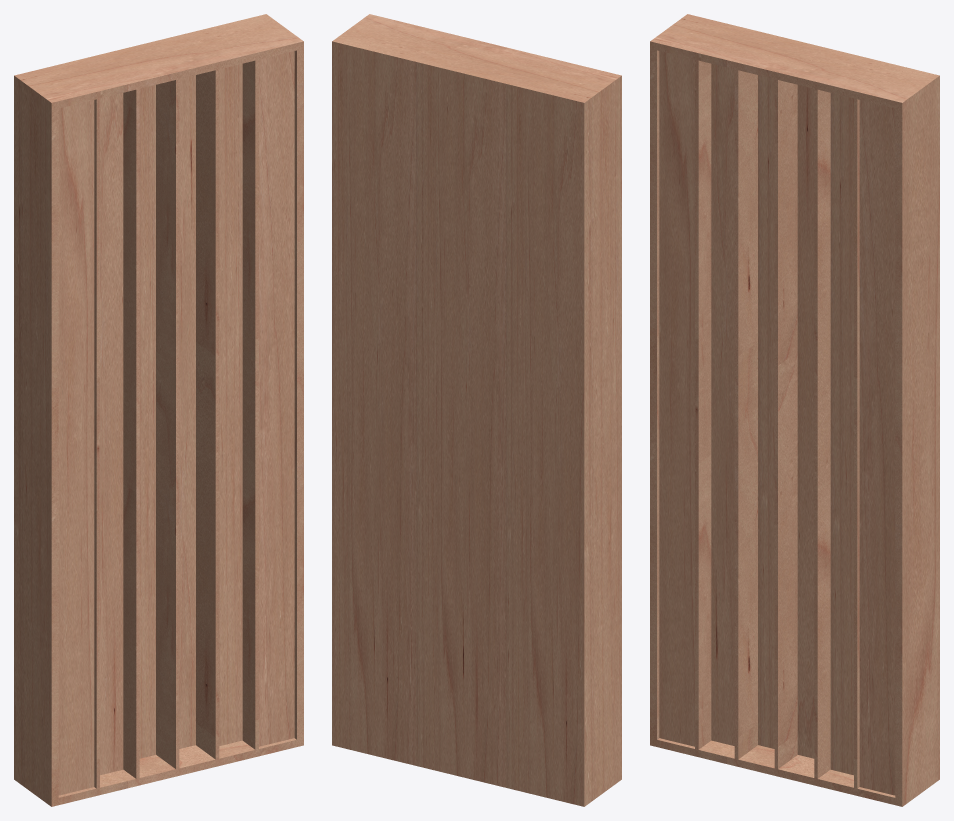
Rendered from RQS800.glb.
The picture shows the model from 3 angles, left to right: view 1: azimuth 30°, elevation 25°; view 2: azimuth 150°, elevation 25°; view 3: azimuth 330°, elevation 25°; orthographic projection.
Parts seen in each view (by area): view 1: RQS800Web v1; view 2: RQS800Web v1; view 3: RQS800Web v1.
Part boxes in pixels (<box>): RQS800Web v1: <box>14,14,303,806</box>; RQS800Web v1: <box>332,14,621,806</box>; RQS800Web v1: <box>650,14,939,806</box>.
Bounding box in the file's own units: 18 × 48 × 4.63.
1 material, 1 textured.
